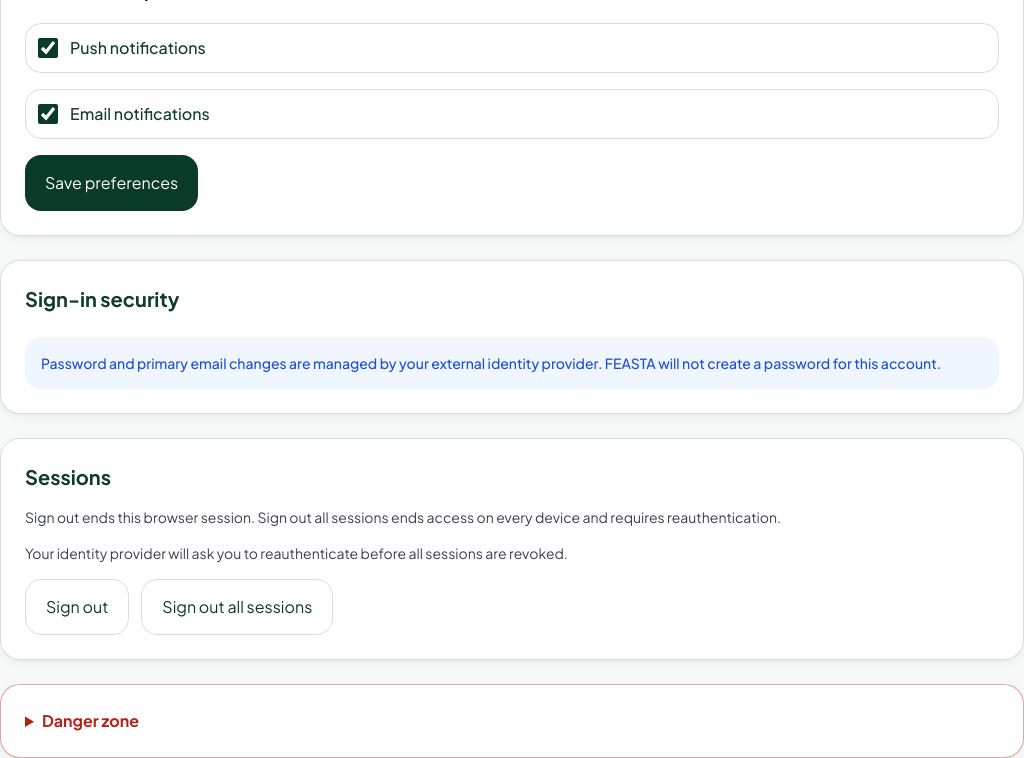
shared account management › keeps deactivation failures inside the confirmation dialog
This screenshot has width=1024, height=758.
(page scrolled)
Click the heading "Danger zone" at (90, 720), box [42, 710, 139, 731]
(page scrolled)
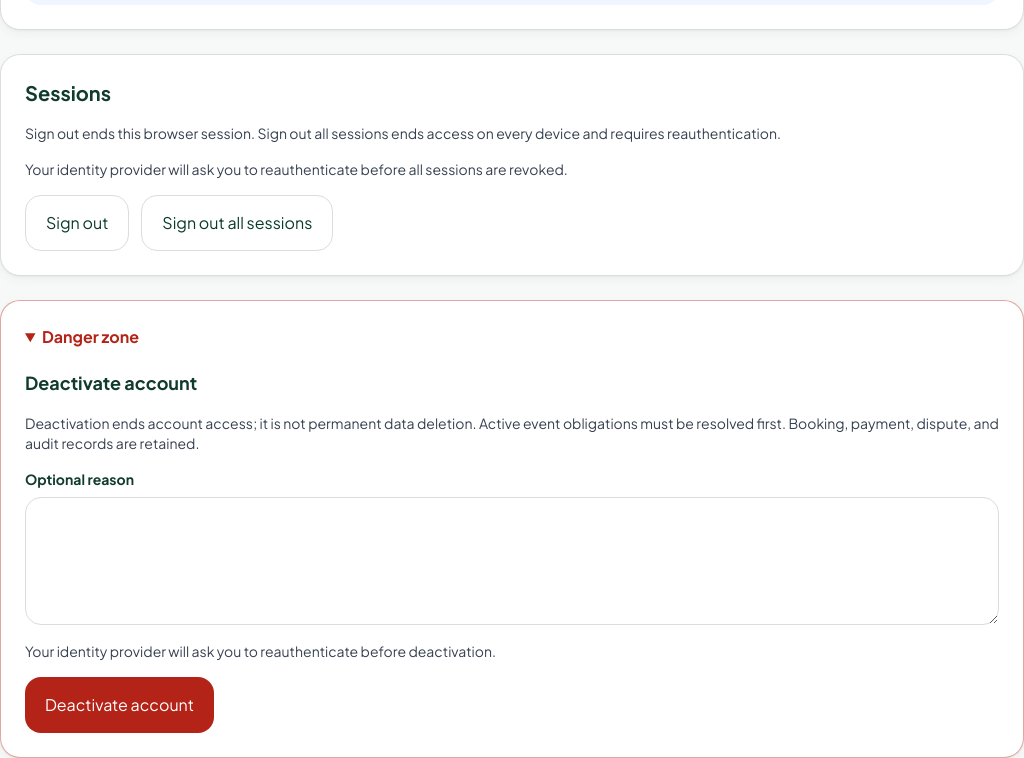
Result: the text "reauthenticate before deactivation" is shown at [25, 642, 496, 660]
Click the button "Deactivate account" at (120, 705), box [25, 677, 214, 733]
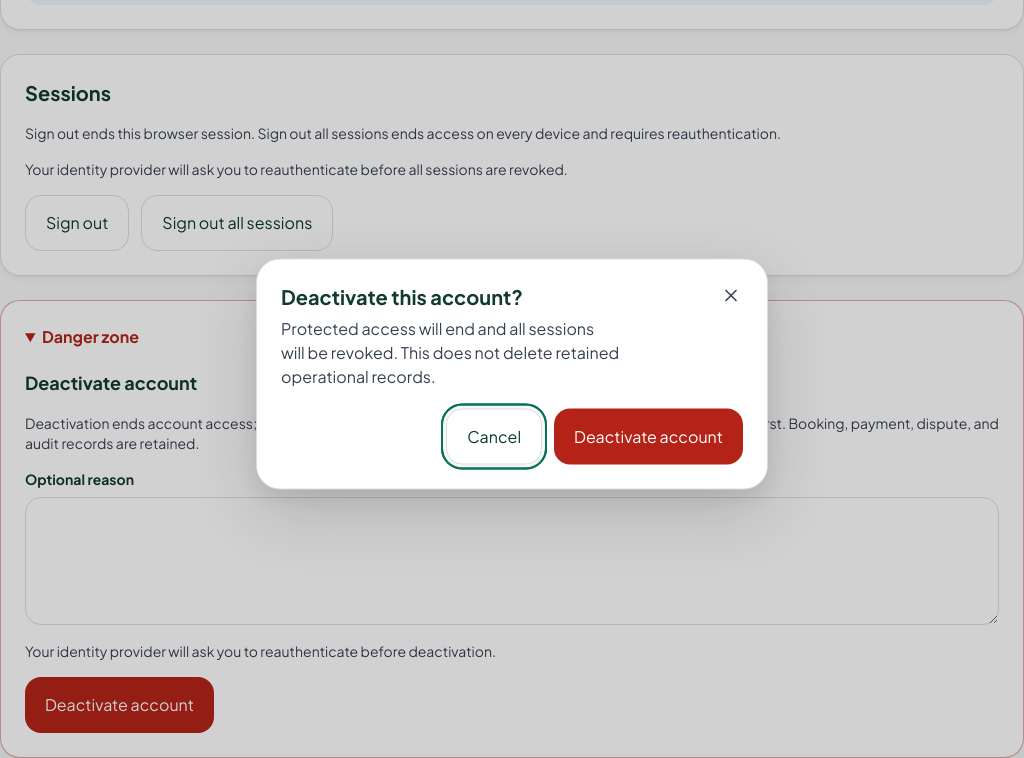
Click the button "Deactivate account" at (648, 436), box [554, 408, 743, 464]
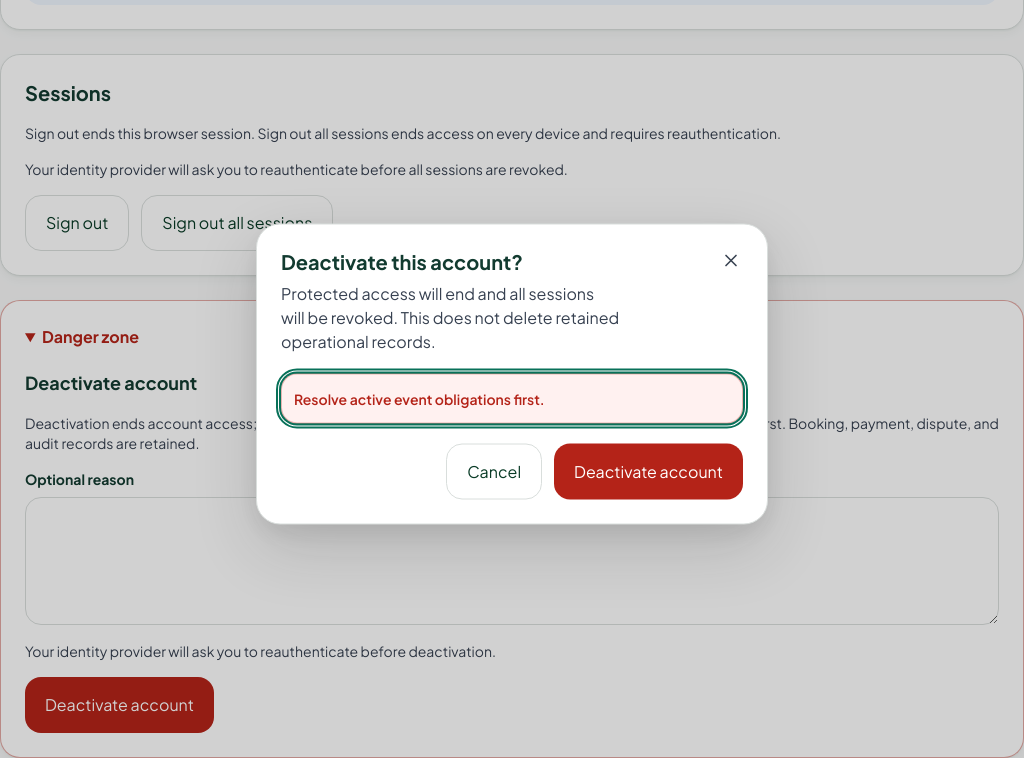
Result: the message reads "Resolve active event obligations first." at [294, 390, 545, 408]
